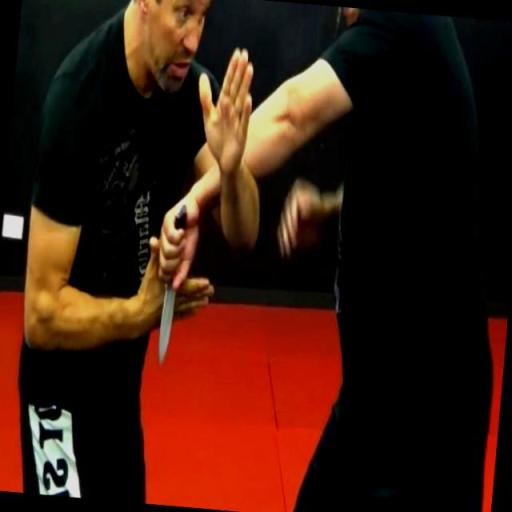knife: (154, 202, 188, 366)
